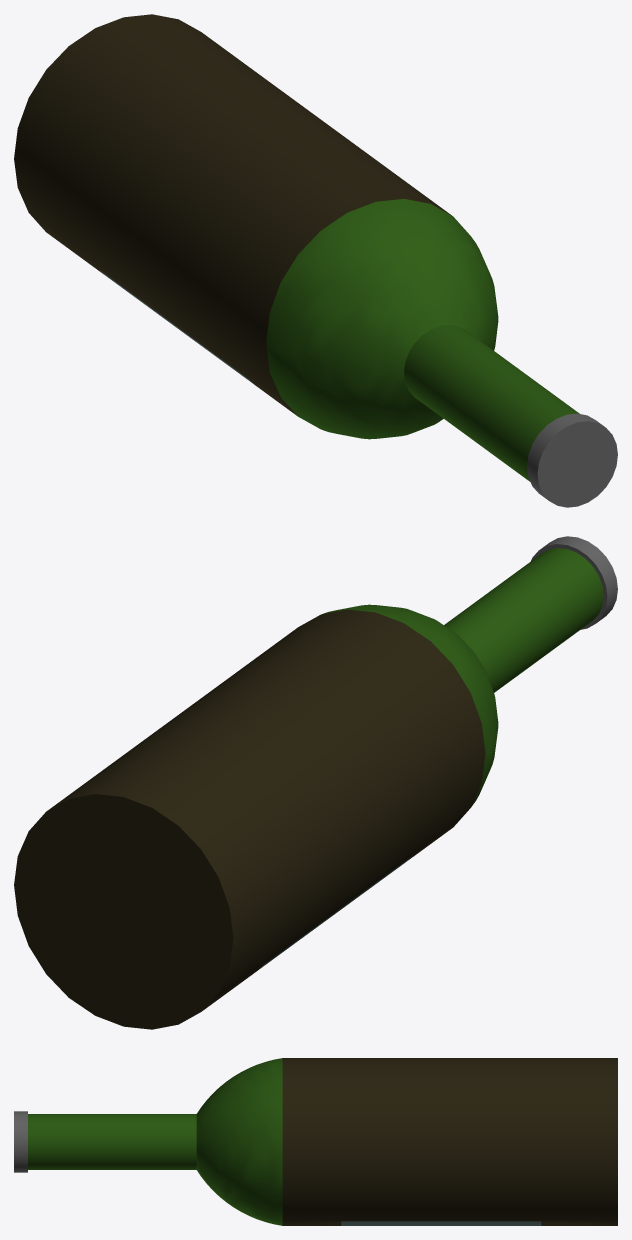
File: bottle_1.dae
3 renders of one model, top to bottom at view 1: azimuth 30°, elevation 25°; view 2: azimuth 150°, elevation 25°; view 3: azimuth 270°, elevation 25°, orthographic. The views are drawn at different scales.
Parts seen in each view (by area): view 1: coords_ME_ID11_MA_material_5, coords_ME_ID3_MA_material_1, coords_ME_ID19_MA__96_96_96; view 2: coords_ME_ID11_MA_material_5, coords_ME_ID3_MA_material_1, coords_ME_ID19_MA__96_96_96; view 3: coords_ME_ID11_MA_material_5, coords_ME_ID3_MA_material_1, coords_ME_ID27_MA_material_4, coords_ME_ID19_MA__96_96_96.
Boxes of the visible parts, left/top/right/bottom form: coords_ME_ID11_MA_material_5: left=14, top=14, right=451, bottom=416; coords_ME_ID3_MA_material_1: left=266, top=199, right=579, bottom=481; coords_ME_ID19_MA__96_96_96: left=527, top=413, right=617, bottom=507; coords_ME_ID11_MA_material_5: left=14, top=609, right=485, bottom=1029; coords_ME_ID3_MA_material_1: left=322, top=548, right=603, bottom=806; coords_ME_ID19_MA__96_96_96: left=531, top=536, right=617, bottom=629; coords_ME_ID11_MA_material_5: left=282, top=1058, right=617, bottom=1225; coords_ME_ID3_MA_material_1: left=28, top=1058, right=282, bottom=1225; coords_ME_ID27_MA_material_4: left=341, top=1221, right=541, bottom=1225; coords_ME_ID19_MA__96_96_96: left=14, top=1111, right=27, bottom=1172.
Size of the model in its own units: 1.28 by 1.28 by 4.57.
